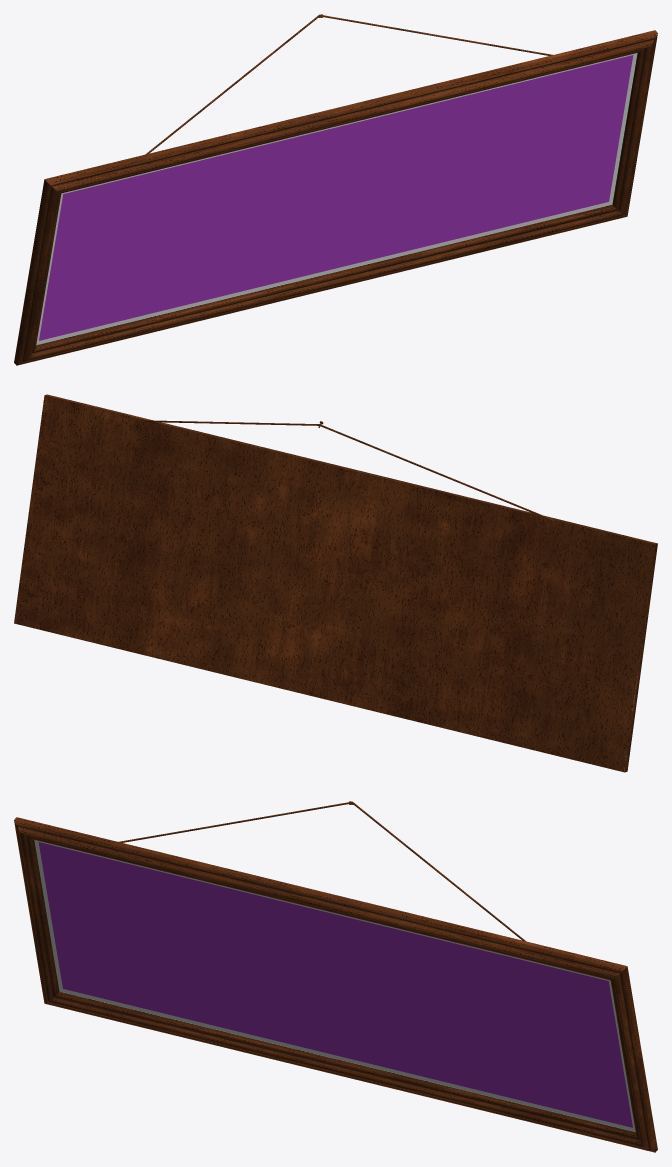
File: Frames_02.FBX
The picture shows the model from 3 angles, top to bottom: view 1: azimuth 30°, elevation 25°; view 2: azimuth 150°, elevation 25°; view 3: azimuth 330°, elevation 25°; orthographic projection.
Visible parts, largest first — view 1: Frames_02; view 2: Frames_02; view 3: Frames_02.
Boxes of the visible parts, x1,y1,x2,y2 form: Frames_02: [14, 14, 657, 365]; Frames_02: [14, 394, 657, 772]; Frames_02: [14, 801, 657, 1152].
Size of the model in its own units: 150 by 64.86 by 15.12.
